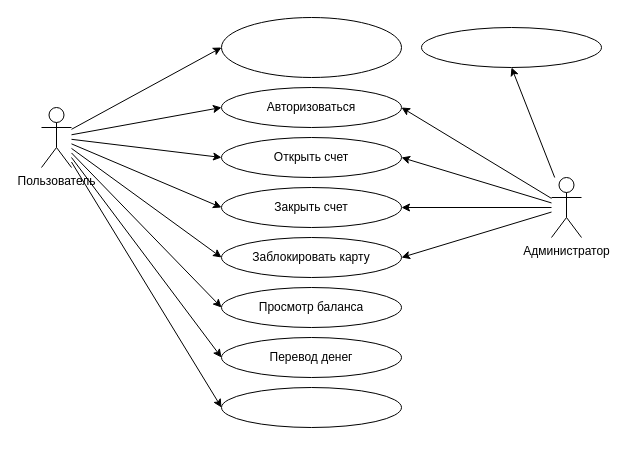
The diagram is 627 pixels wide and 453 high, and some of its shapes have lost their labels. The shapes that lost their labels are listed below. From the top down, each one's centre as x and y in pixels, then its label:
At pixel 311 47: "Зарегистрироваться (с использованием номера карты)".
At pixel 511 47: "Добавить карту и данные клиента в базу".
At pixel 311 407: "Просмотр истории переводов".
